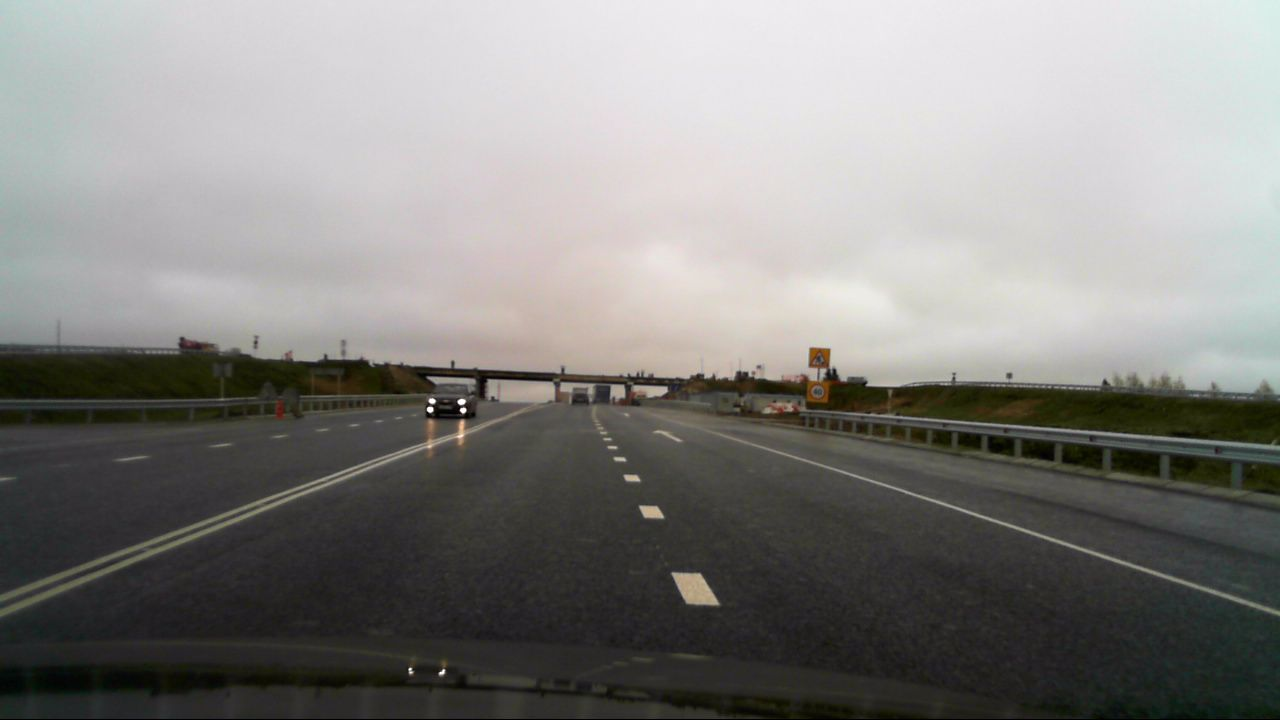speed_warning_40: (806, 381, 829, 402)
